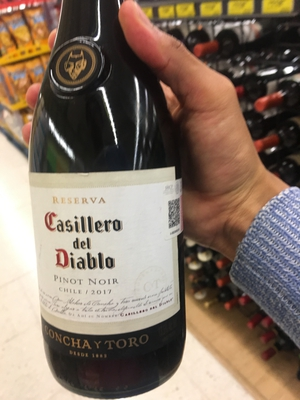casillero del diablo pinot noir: (22, 20, 200, 400)
